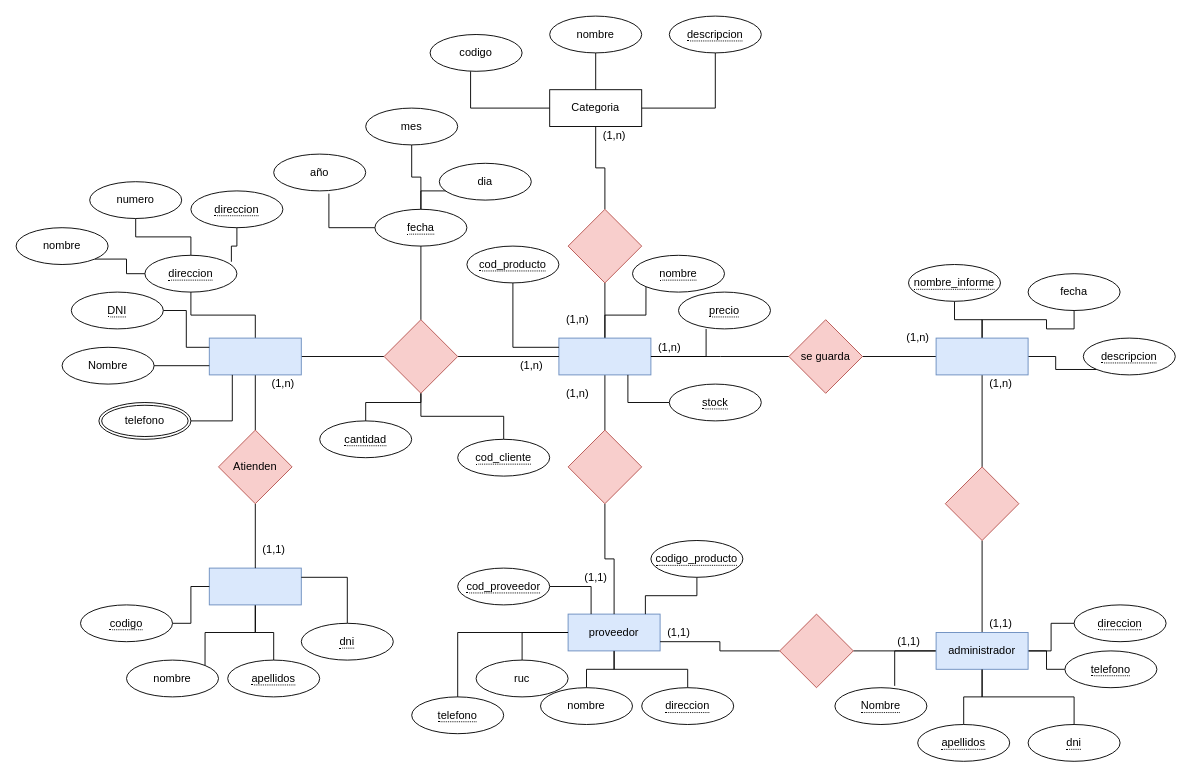
This 1191x777 diagram has some shape labels left out. The centre of each missing label's shape, as x and y in pixels:
Cliente: point 254,356
compra: point 420,356
Producto: point 604,356
provee: point 604,466
reportes: point 981,356
requiere: point 816,650
Se clasifica: point 604,245
solicita: point 981,503
Vendedor: point 254,586
